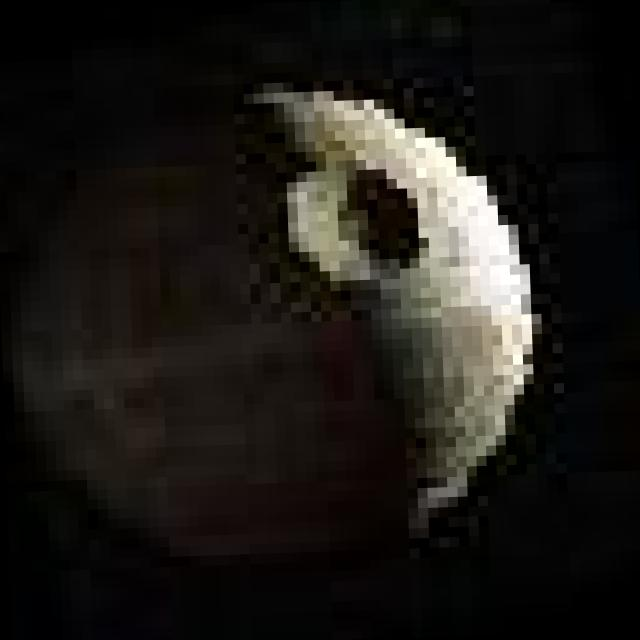Death Star: (19, 72, 558, 560)
